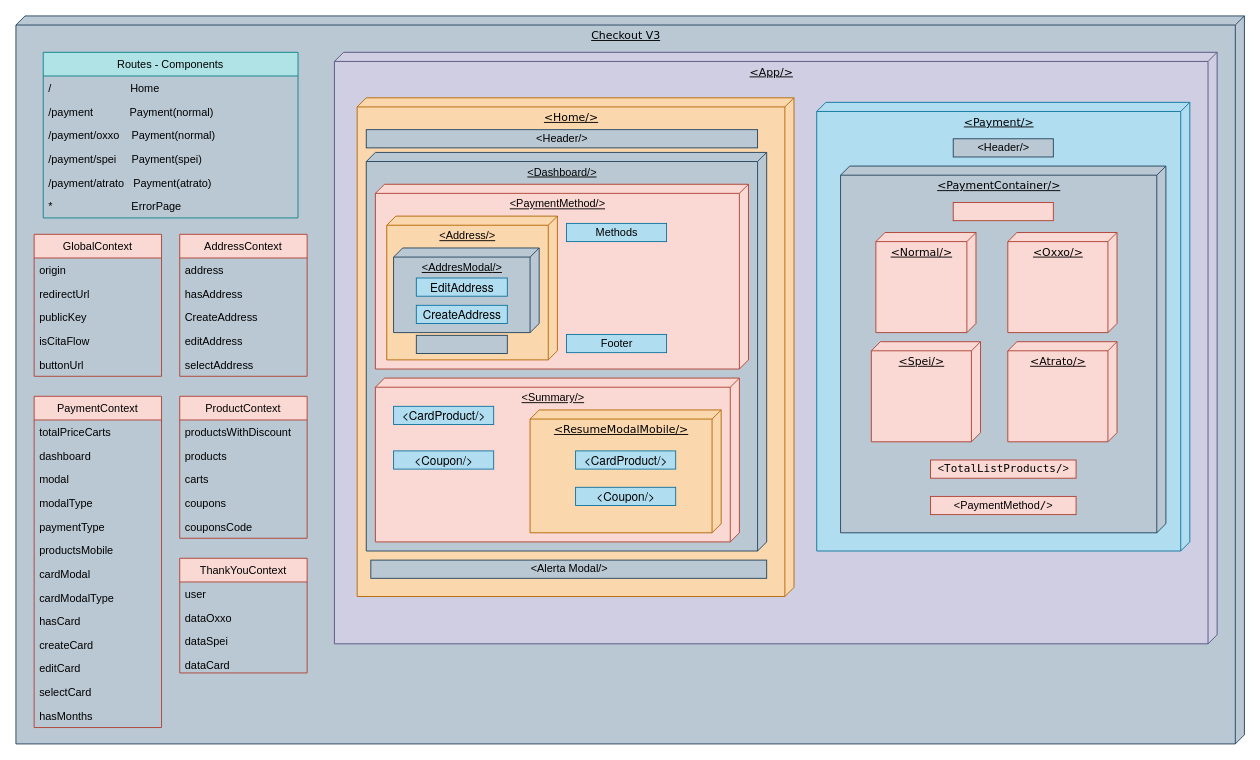
This 1260x760 diagram has some shape labels left out. Each missing label, with the centre of its shape:
<ThankYou/>: point 1002,211
AddressSelector: point 461,344
